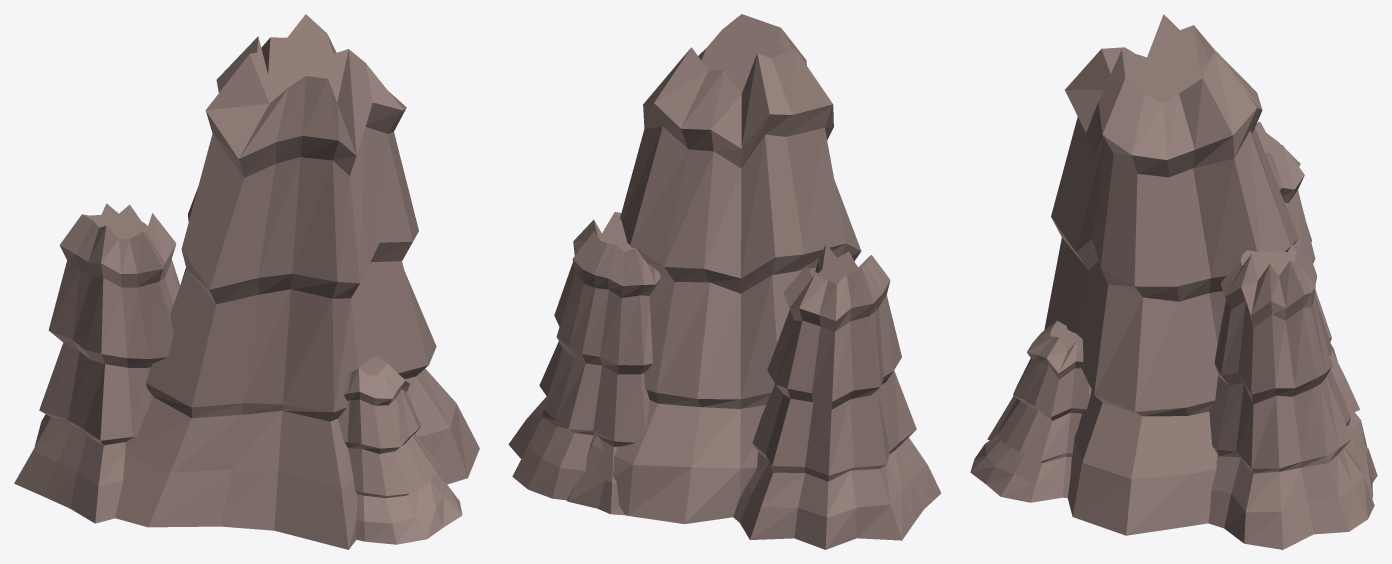
The model's file is mesa_1.glb.
3 views of the same model, side by side, from view 1: azimuth 30°, elevation 25°; view 2: azimuth 150°, elevation 25°; view 3: azimuth 270°, elevation 25° (orthographic). The views are drawn at different scales.
Parts seen in each view (by area): view 1: Broken main crown; view 2: Broken main crown; view 3: Broken main crown.
Boxes of the visible parts, x1,y1,x2,y2 form: Broken main crown: (14, 14, 479, 549); Broken main crown: (508, 14, 941, 549); Broken main crown: (970, 14, 1377, 549).
Size of the model in its own units: 27.62 by 27.54 by 24.05.
